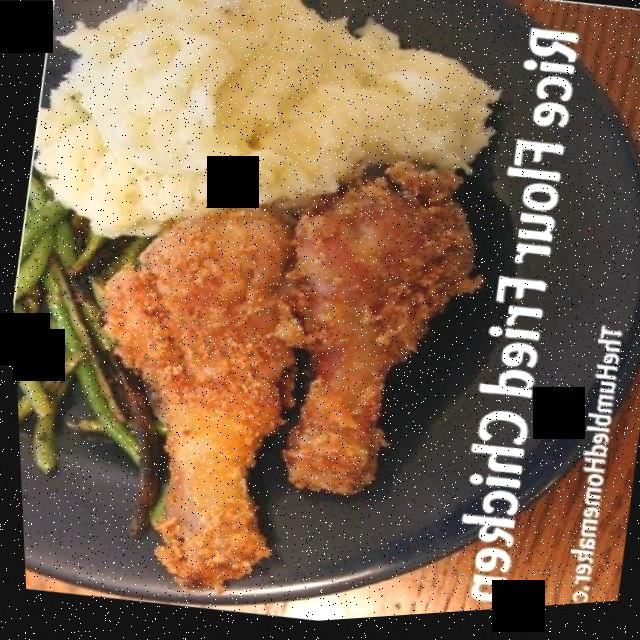Frango: (58, 187, 331, 609), (253, 153, 491, 516)
